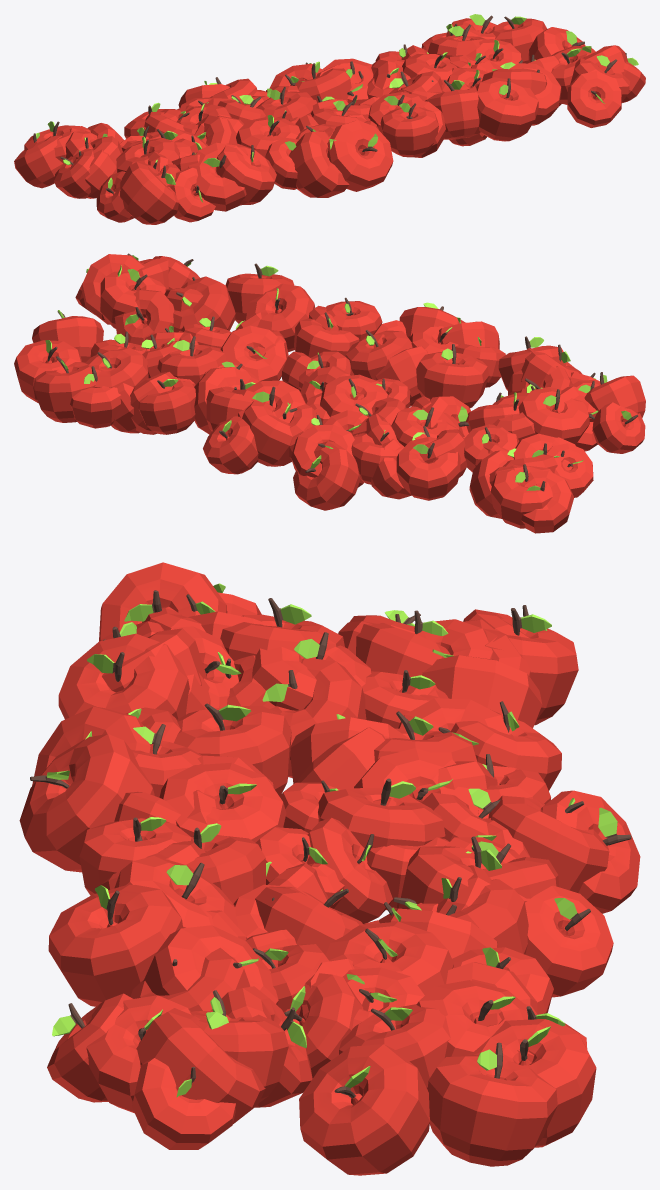
File: apple.fbx
3 renders of one model, top to bottom at view 1: azimuth 30°, elevation 25°; view 2: azimuth 150°, elevation 25°; view 3: azimuth 270°, elevation 25°, orthographic. The views are drawn at different scales.
Parts seen in each view (by area): view 1: apple.092; view 2: apple.092; view 3: apple.092.
Part boxes in pixels (x1,y1,x2,y2): apple.092: (14, 14, 645, 224); apple.092: (14, 253, 645, 533); apple.092: (19, 562, 640, 1175).
Size of the model in its own units: 1337 by 234 by 661.
